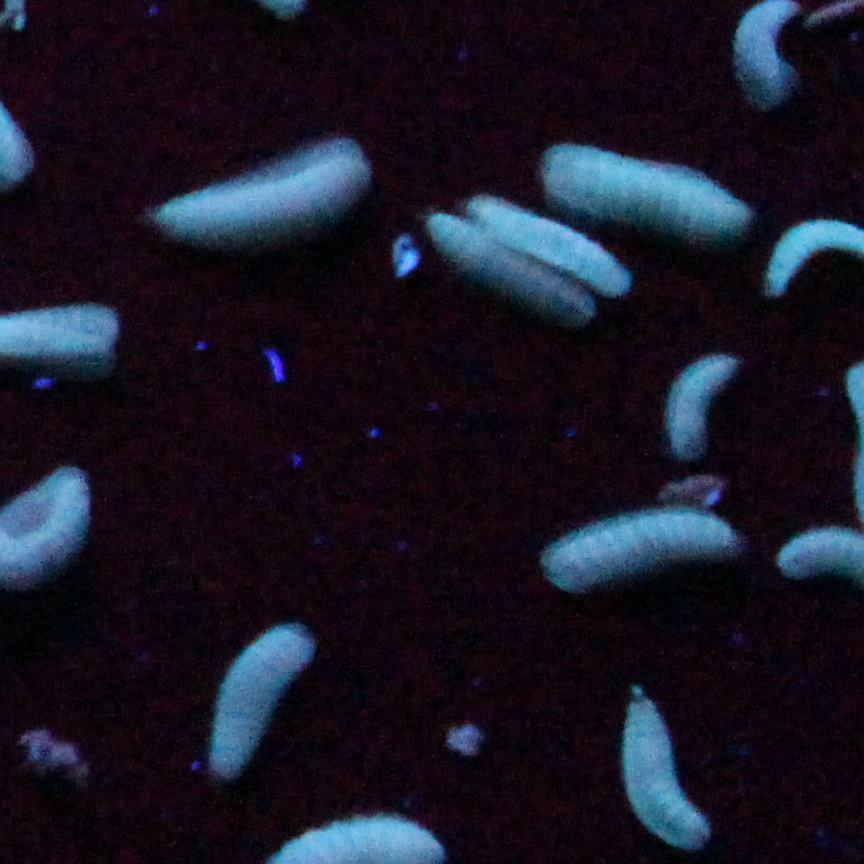larve: (152, 135, 369, 234), (541, 145, 756, 235), (415, 208, 592, 317), (207, 616, 323, 778), (466, 188, 630, 301), (544, 501, 738, 588), (603, 680, 705, 845), (669, 349, 741, 457)
